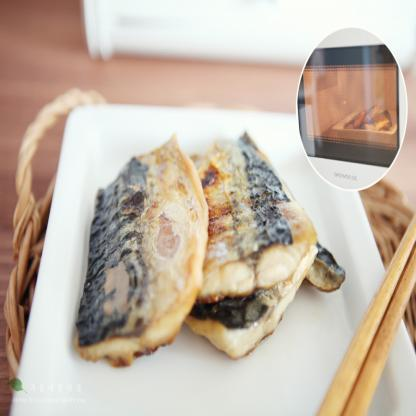Peixe: (50, 104, 311, 384)
